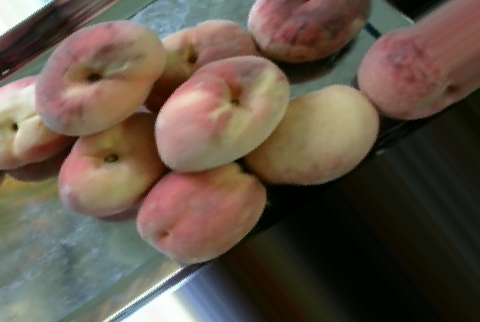Peach: (155, 53, 290, 173), (38, 22, 163, 132), (246, 82, 375, 186), (137, 161, 268, 263), (141, 19, 254, 116), (58, 117, 161, 217), (356, 29, 457, 119), (247, 0, 370, 63), (1, 70, 67, 172)
